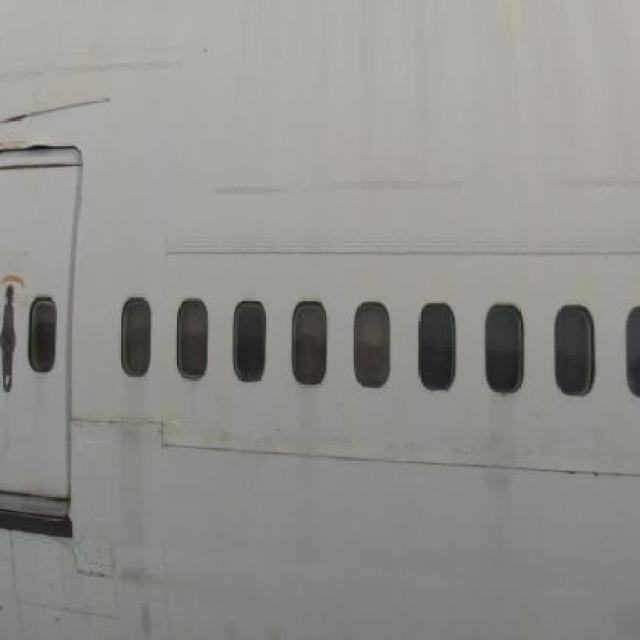Scartch: (213, 172, 478, 218), (116, 546, 184, 640), (544, 161, 640, 210)
